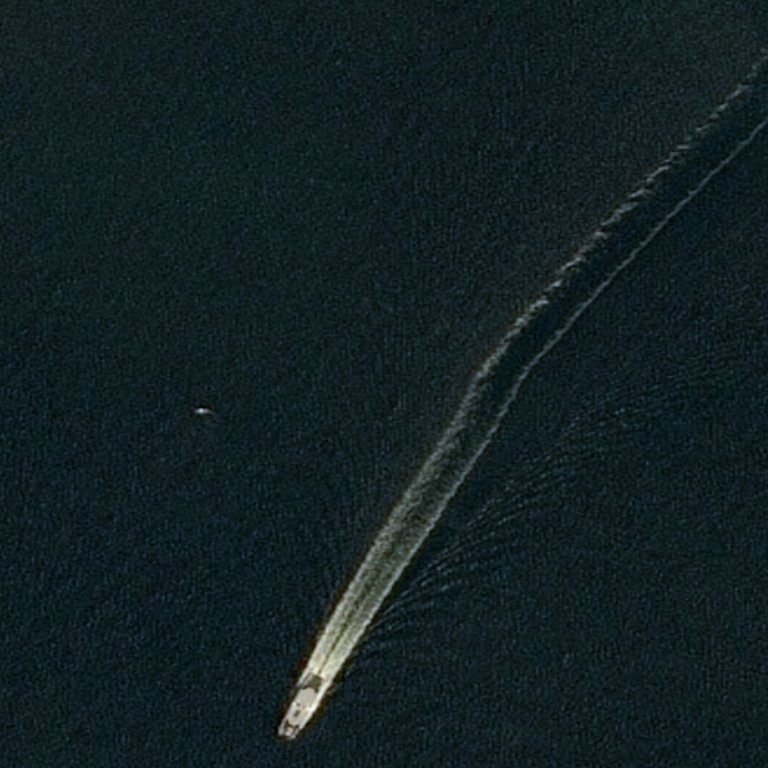ship: (274, 675, 327, 740)
